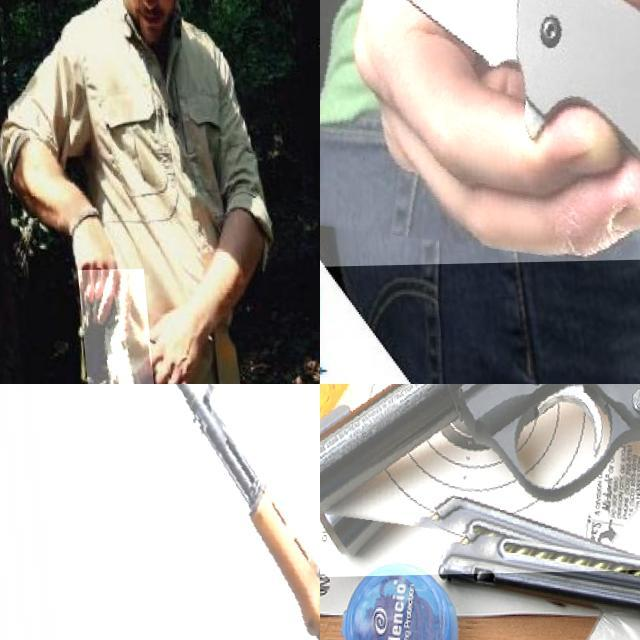-: (320, 0, 640, 268), (69, 269, 146, 384)
gun-knife-thesis - v11 Yolov5 augmented: (30, 384, 320, 640), (320, 384, 640, 613)
